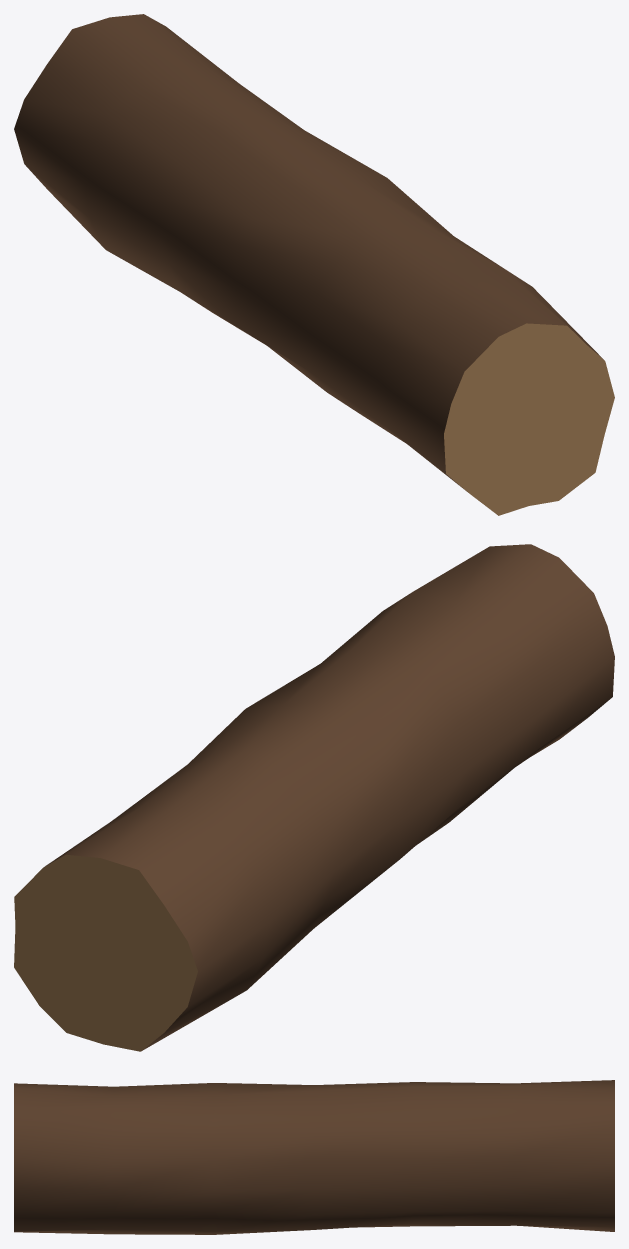
Rendered from WF_PCGLog.3.glb.
The picture shows the model from 3 angles, top to bottom: view 1: azimuth 30°, elevation 25°; view 2: azimuth 150°, elevation 25°; view 3: azimuth 270°, elevation 25°; orthographic projection. The views are drawn at different scales.
Parts seen in each view (by area): view 1: Log.003; view 2: Log.003; view 3: Log.003.
Part boxes in pixels (x1=…): Log.003: x1=14, y1=14, x2=614, y2=515; Log.003: x1=14, y1=544, x2=614, y2=1051; Log.003: x1=14, y1=1080, x2=614, y2=1234.
Bounding box in the file's own units: 0.1085 × 0.1049 × 0.41.
